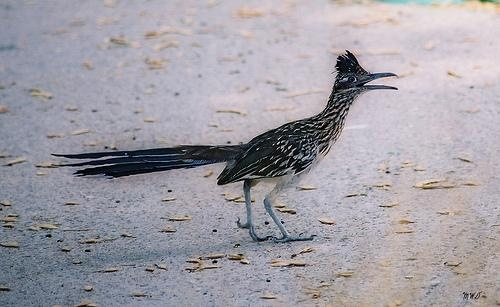bird: (67, 54, 401, 244)
